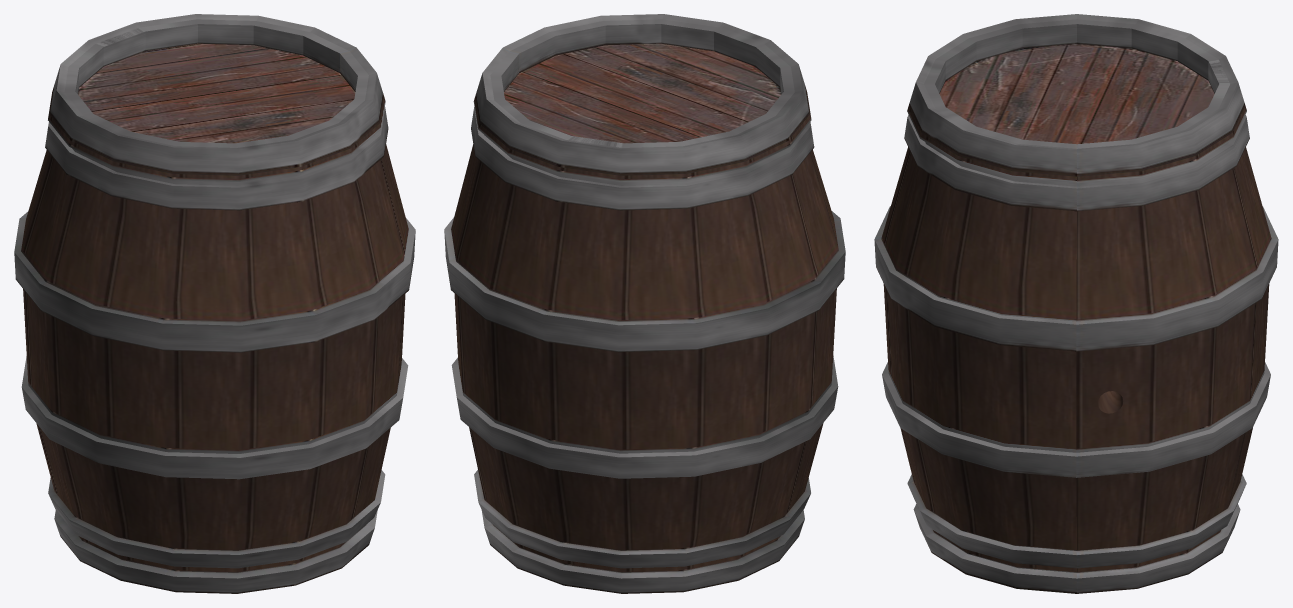
File: barrels-07.FBX
The picture shows the model from 3 angles, left to right: view 1: azimuth 30°, elevation 25°; view 2: azimuth 150°, elevation 25°; view 3: azimuth 270°, elevation 25°; orthographic projection.
Visible parts, largest first — view 1: Line001; view 2: Line001; view 3: Line001.
Part boxes in pixels (<box>): Line001: <box>14,14,415,593</box>; Line001: <box>444,14,845,593</box>; Line001: <box>874,14,1278,593</box>.
Bounding box in the file's own units: 21.53 × 26.18 × 21.53.
Materials: 1 (1 with a texture image).
